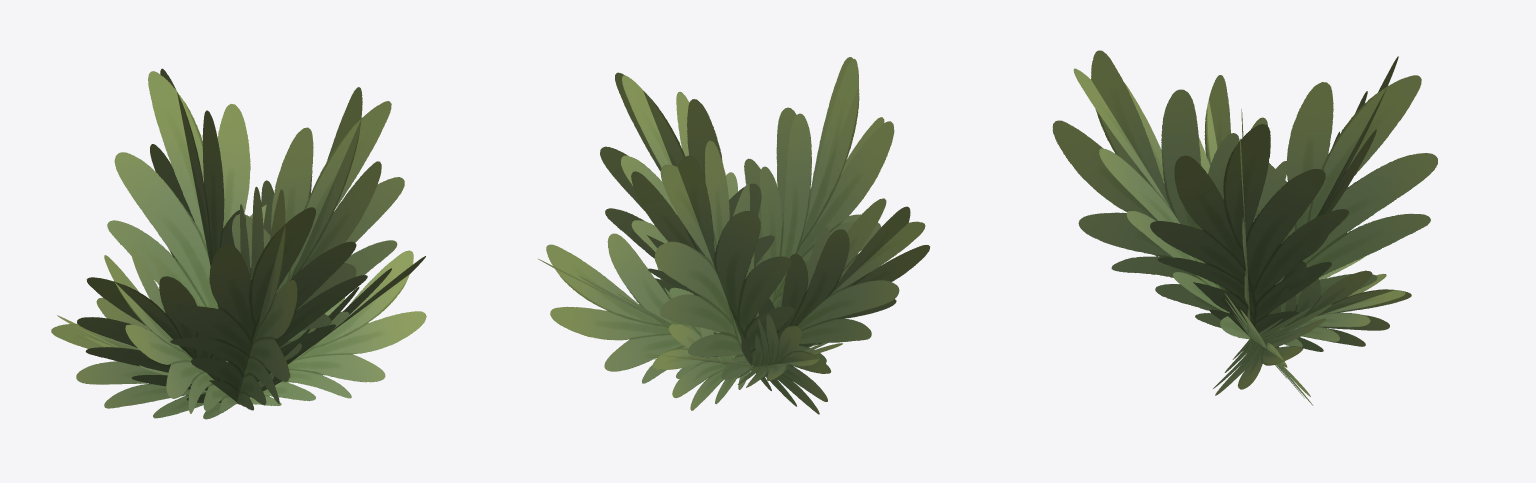
Rendered from DBush1.fbx.
The picture shows the model from 3 angles, left to right: view 1: azimuth 30°, elevation 25°; view 2: azimuth 150°, elevation 25°; view 3: azimuth 270°, elevation 25°; orthographic projection. The views are drawn at different scales.
Visible parts, largest first — view 1: G_D1Bush; view 2: G_D1Bush; view 3: G_D1Bush.
Part boxes in pixels (<box>): G_D1Bush: <box>51,68,426,419</box>; G_D1Bush: <box>538,57,929,414</box>; G_D1Bush: <box>1052,50,1437,405</box>.
Size of the model in its own units: 319 by 275 by 346.
